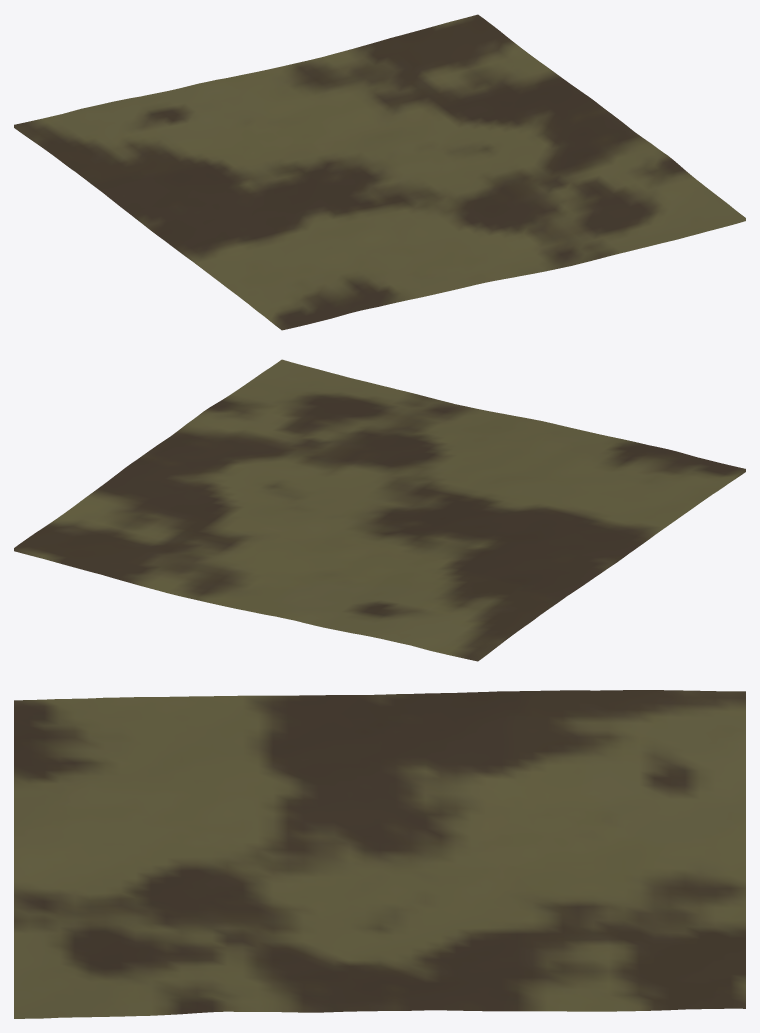
Rendered from land_m_03_07.glb.
The picture shows the model from 3 angles, top to bottom: view 1: azimuth 30°, elevation 25°; view 2: azimuth 150°, elevation 25°; view 3: azimuth 270°, elevation 25°; orthographic projection. The views are drawn at different scales.
Parts seen in each view (by area): view 1: land_m_03_07; view 2: land_m_03_07; view 3: land_m_03_07.
Part boxes in pixels (x1,y1,x2,y2): land_m_03_07: [14, 14, 745, 330]; land_m_03_07: [14, 359, 745, 661]; land_m_03_07: [14, 690, 745, 1018].
Bounding box in the file's own units: 960 × 33.5 × 960.
